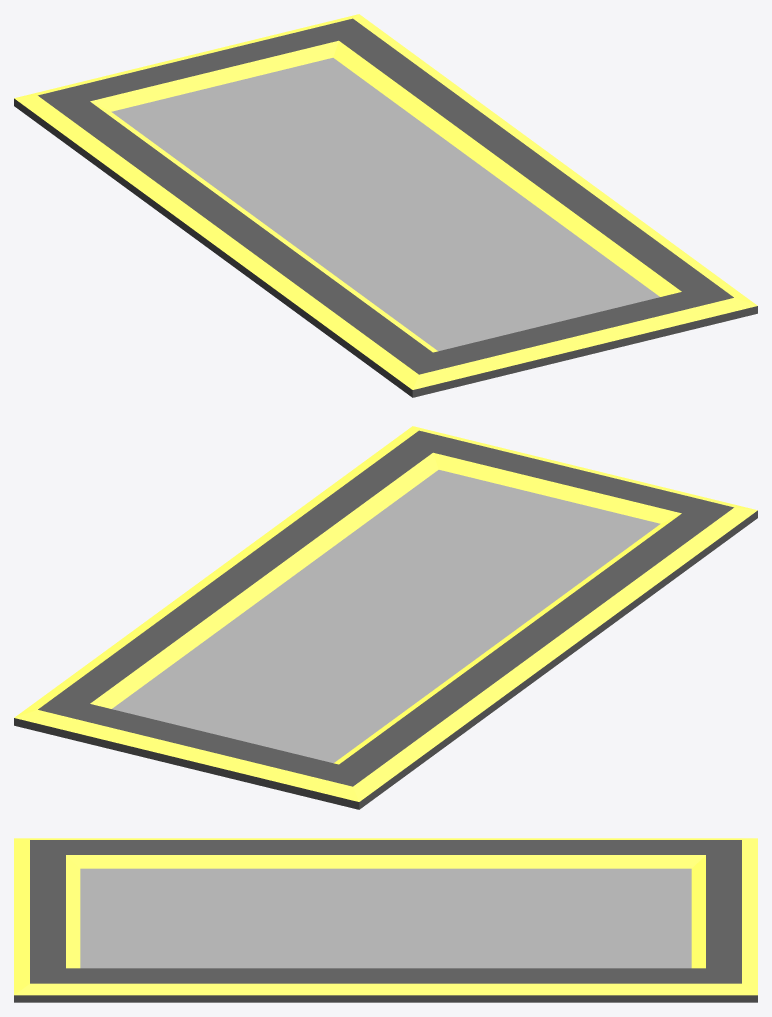
Rendered from lighthalf.glb.
3 renders of one model, top to bottom at view 1: azimuth 30°, elevation 25°; view 2: azimuth 150°, elevation 25°; view 3: azimuth 270°, elevation 25°, orthographic. The views are drawn at different scales.
Parts seen in each view (by area): view 1: Cube.007; view 2: Cube.007; view 3: Cube.007.
Boxes of the visible parts, x1=… form: Cube.007: x1=14, y1=14, x2=757, y2=397; Cube.007: x1=14, y1=426, x2=757, y2=809; Cube.007: x1=14, y1=838, x2=757, y2=1002.
Size of the model in its own units: 1 by 0.0367 by 2.
